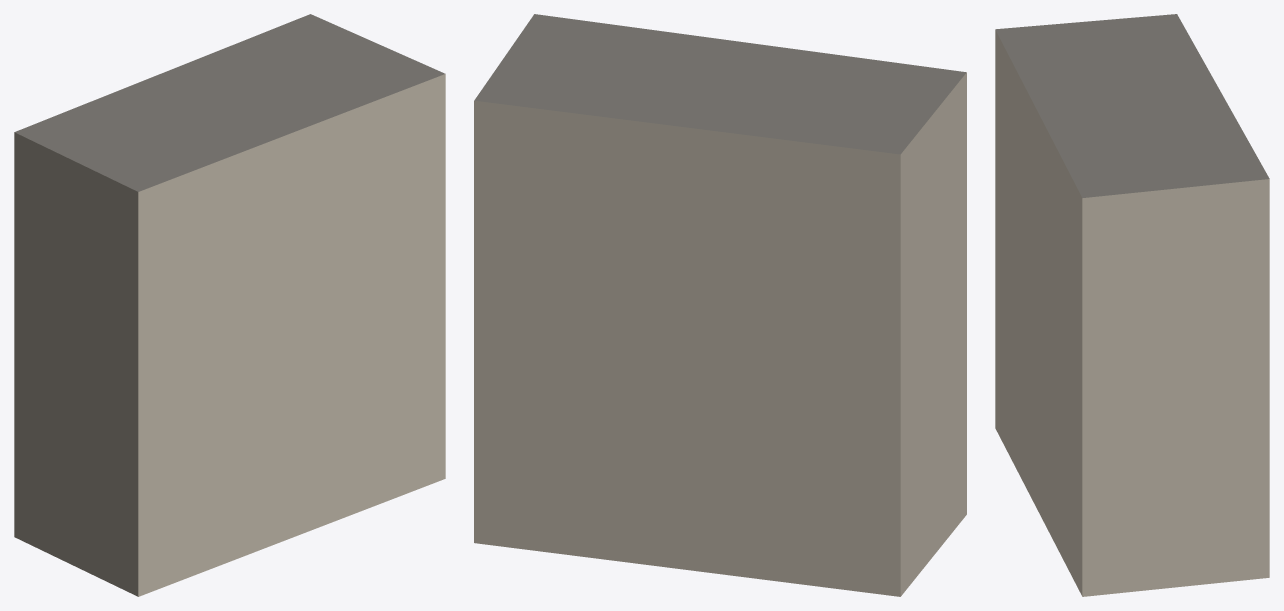
The picture shows the model from 3 angles, left to right: view 1: azimuth 30°, elevation 25°; view 2: azimuth 150°, elevation 25°; view 3: azimuth 270°, elevation 25°; orthographic projection. The views are drawn at different scales.
Visible parts, largest first — view 1: HP-w702173482; view 2: HP-w702173482; view 3: HP-w702173482.
Part boxes in pixels (bbox=[...]): HP-w702173482: bbox=[14, 14, 445, 596]; HP-w702173482: bbox=[474, 14, 966, 596]; HP-w702173482: bbox=[995, 14, 1269, 596].
Size of the model in its own units: 17.83 by 18 by 11.23.
